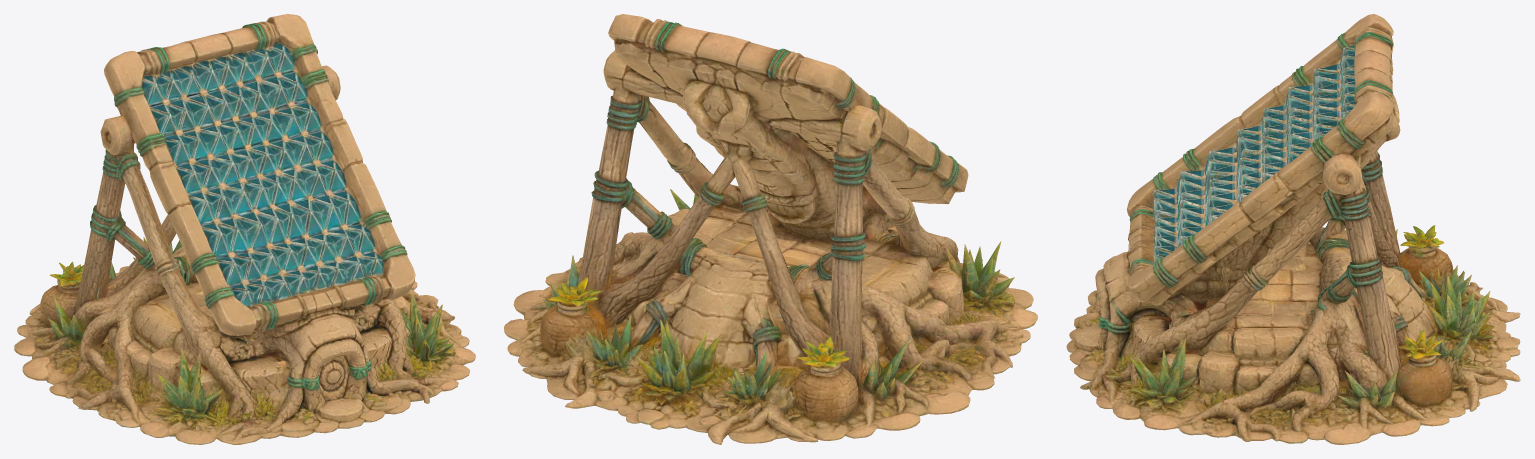
File: crystal-energy-array.glb
3 views of the same model, side by side, from view 1: azimuth 30°, elevation 25°; view 2: azimuth 150°, elevation 25°; view 3: azimuth 270°, elevation 25° (orthographic). The views are drawn at different scales.
Bounding box in the file's own units: 1.9 × 1.33 × 1.87.
1 material, 1 textured.
